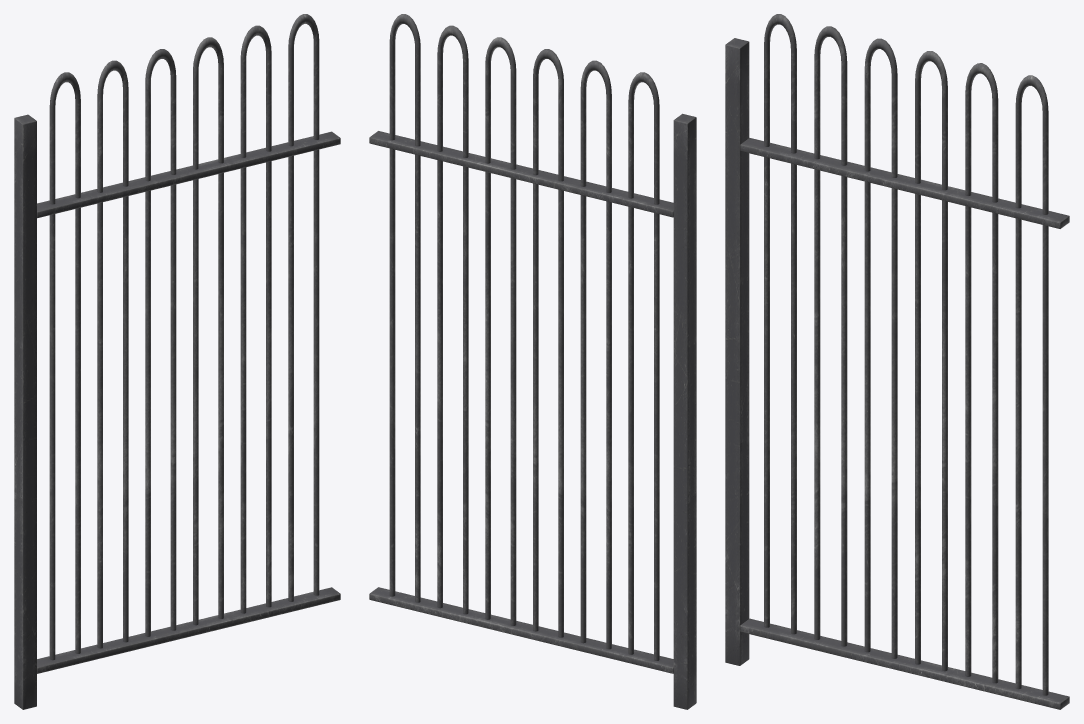
The model's file is Reja2.obj.
3 views of the same model, side by side, from view 1: azimuth 30°, elevation 25°; view 2: azimuth 150°, elevation 25°; view 3: azimuth 330°, elevation 25° (orthographic). The views are drawn at different scales.
Parts seen in each view (by area): view 1: modular_grid001; view 2: modular_grid001; view 3: modular_grid001.
Boxes of the visible parts, x1,y1,x2,y2 form: modular_grid001: (14,14,340,709); modular_grid001: (369,14,696,709); modular_grid001: (725,14,1069,709).
Size of the model in its own units: 5.08 by 9.51 by 0.25.
1 material, 1 textured.
